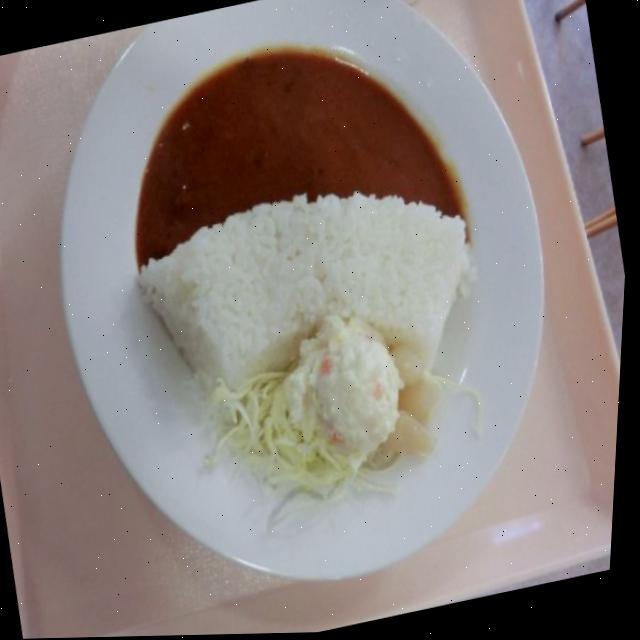牛肉菜式: (88, 3, 513, 440)
蔬菜料理: (189, 337, 377, 523), (275, 304, 430, 485)
